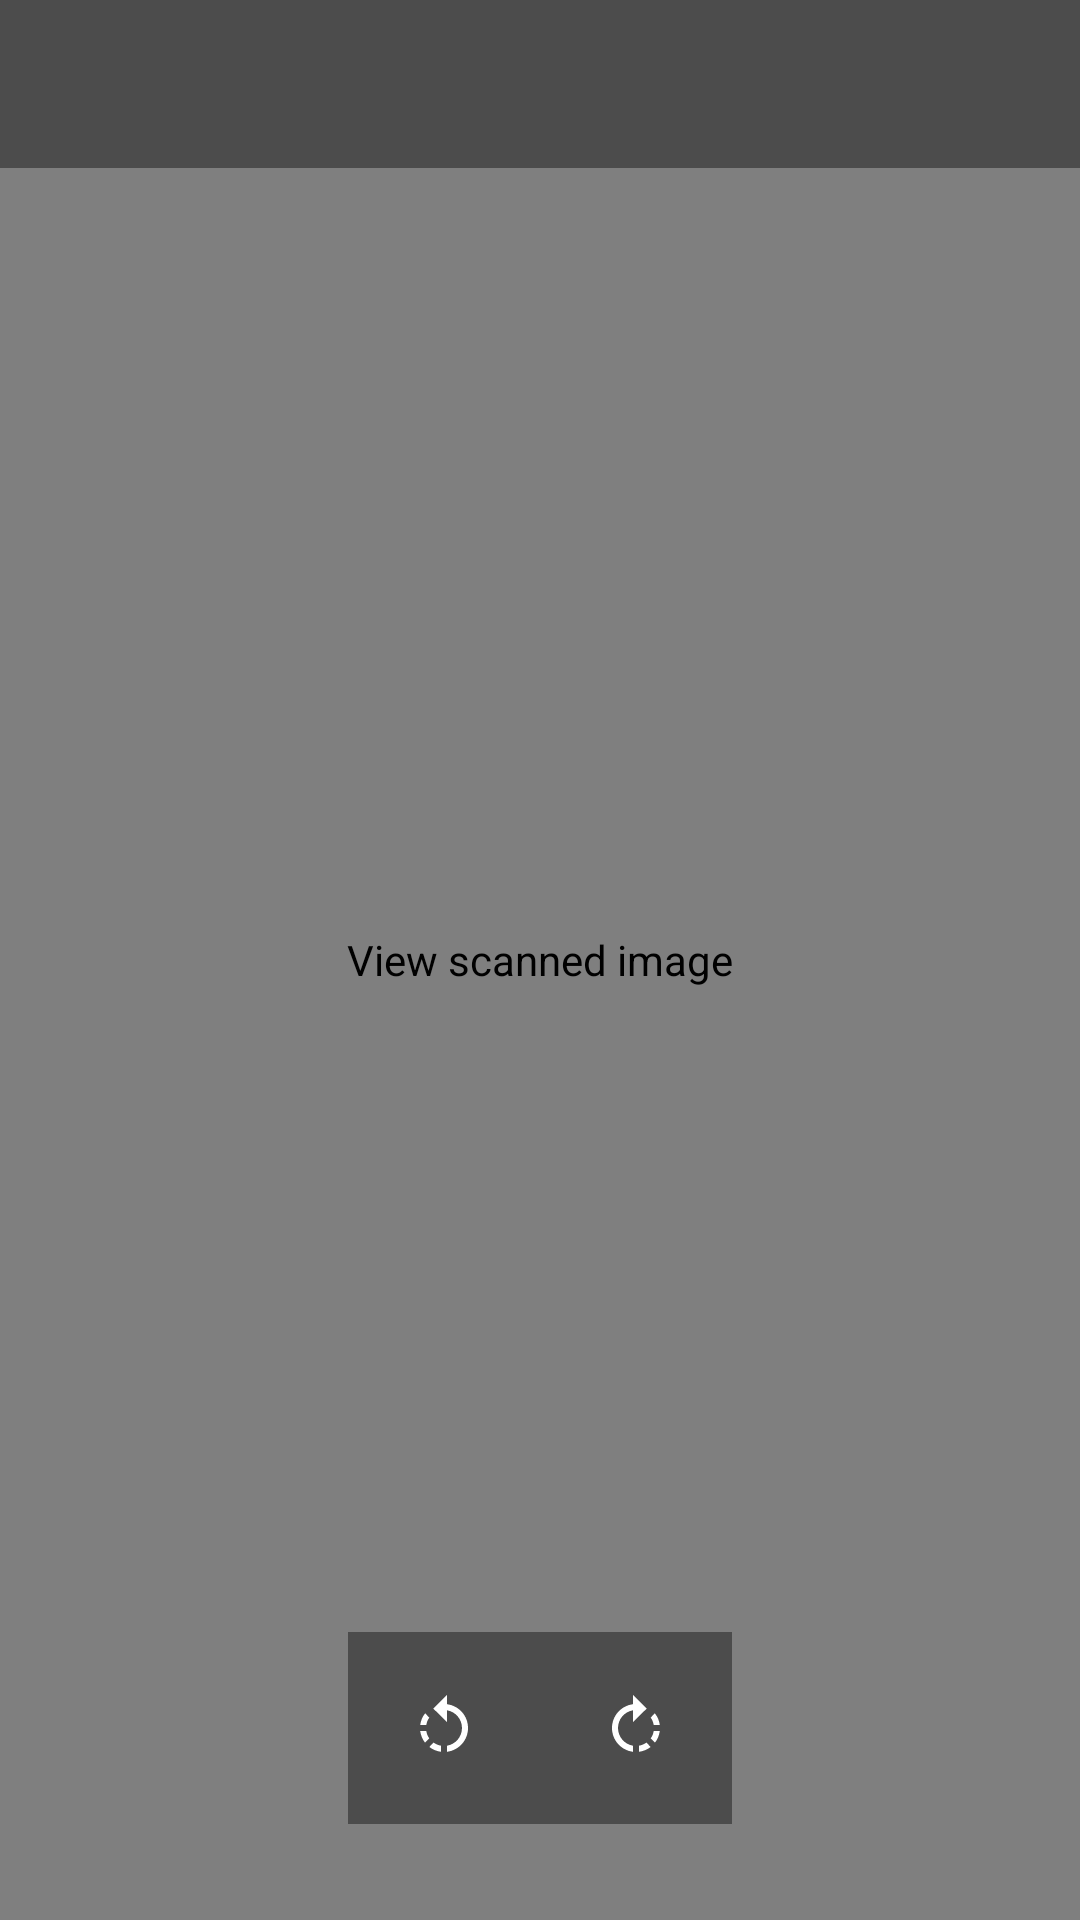

Named icons in this screenshot (1080*1920) and their centers, (x=x, y=y):
Rotate left: (x=444, y=1723)
Rotate right: (x=636, y=1723)
